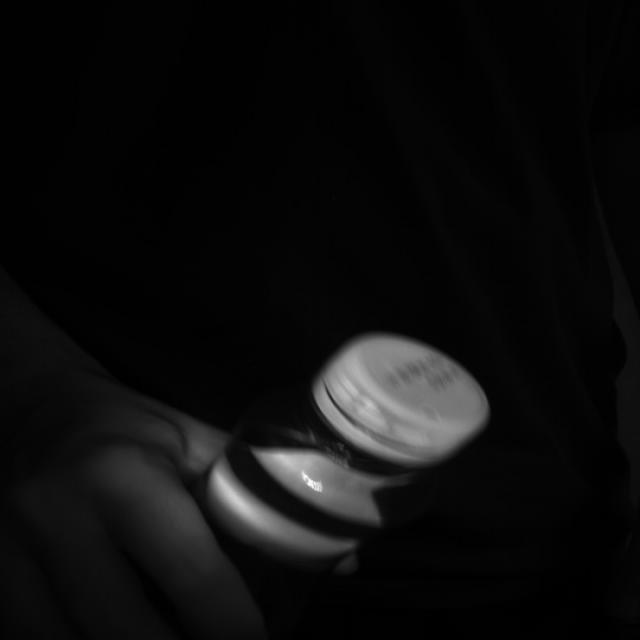Not Good: (315, 333, 491, 468)
